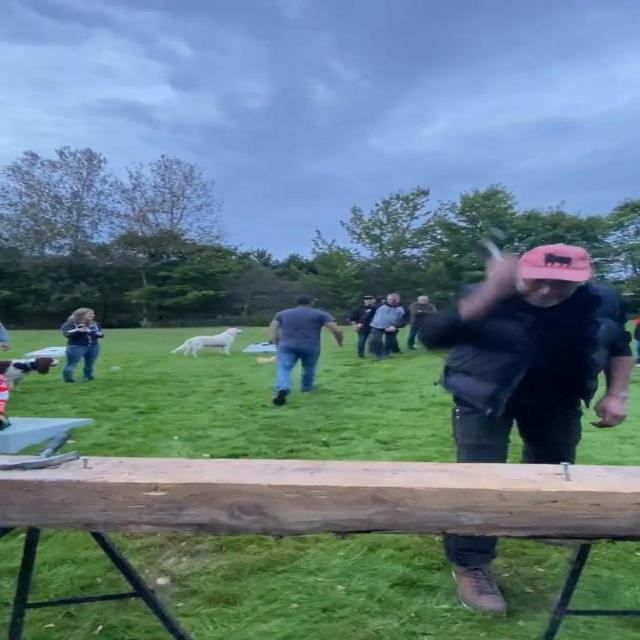hammer: (0, 432, 81, 470)
